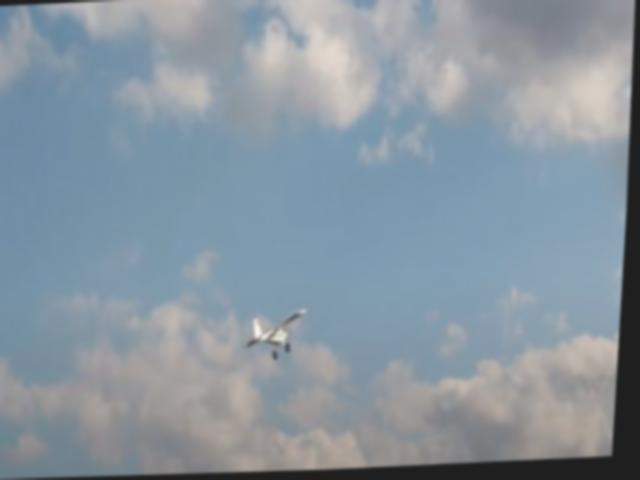uav: (246, 305, 312, 361)
